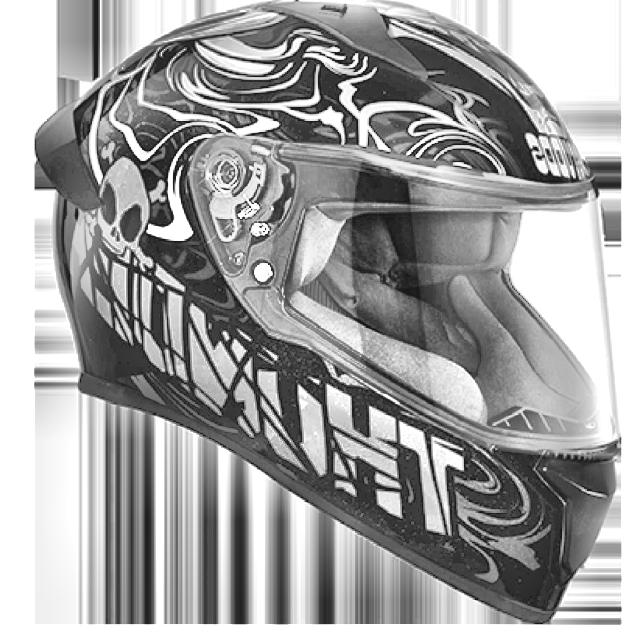Helmet: (21, 0, 623, 627)
